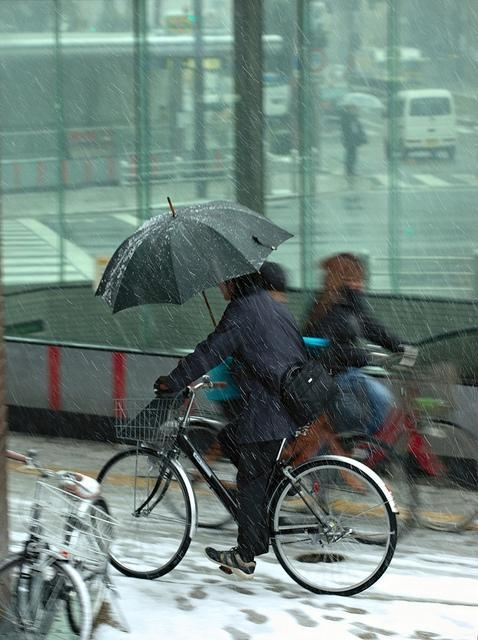bicycle: (98, 374, 400, 598), (1, 448, 123, 630), (362, 344, 478, 534), (294, 416, 396, 460)
bus: (0, 38, 296, 199)
truck: (396, 88, 456, 158)
